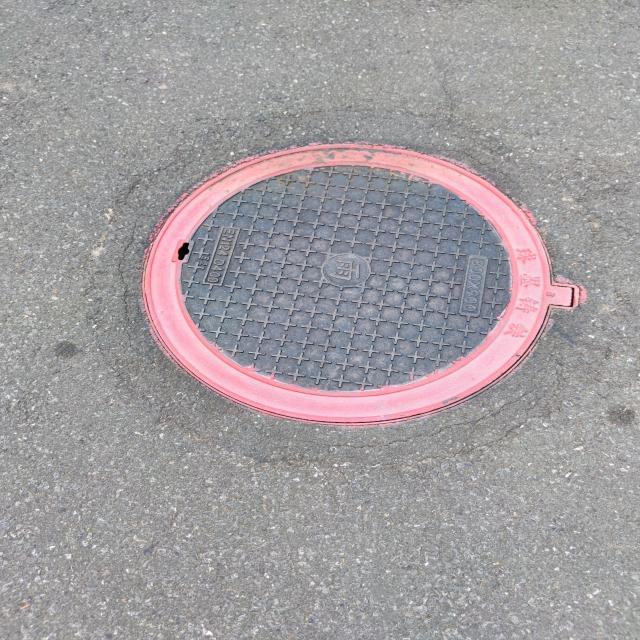Good: (132, 141, 580, 433)
